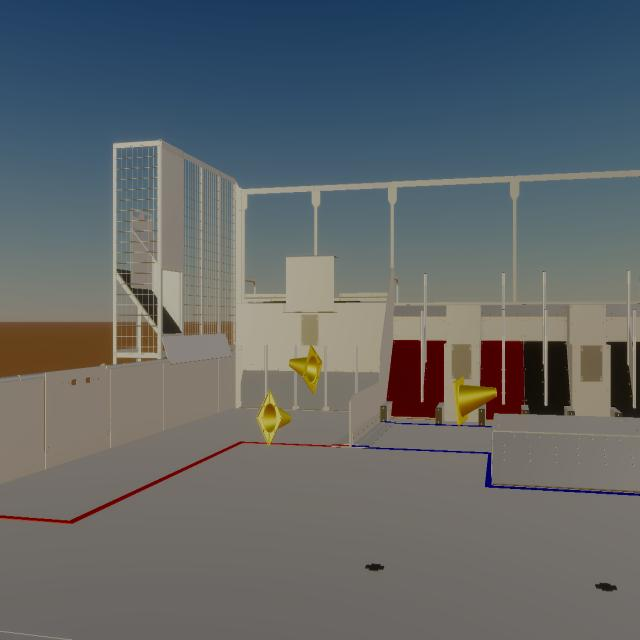frc_cone: (453, 376, 497, 426), (257, 391, 291, 446), (289, 346, 322, 394)
